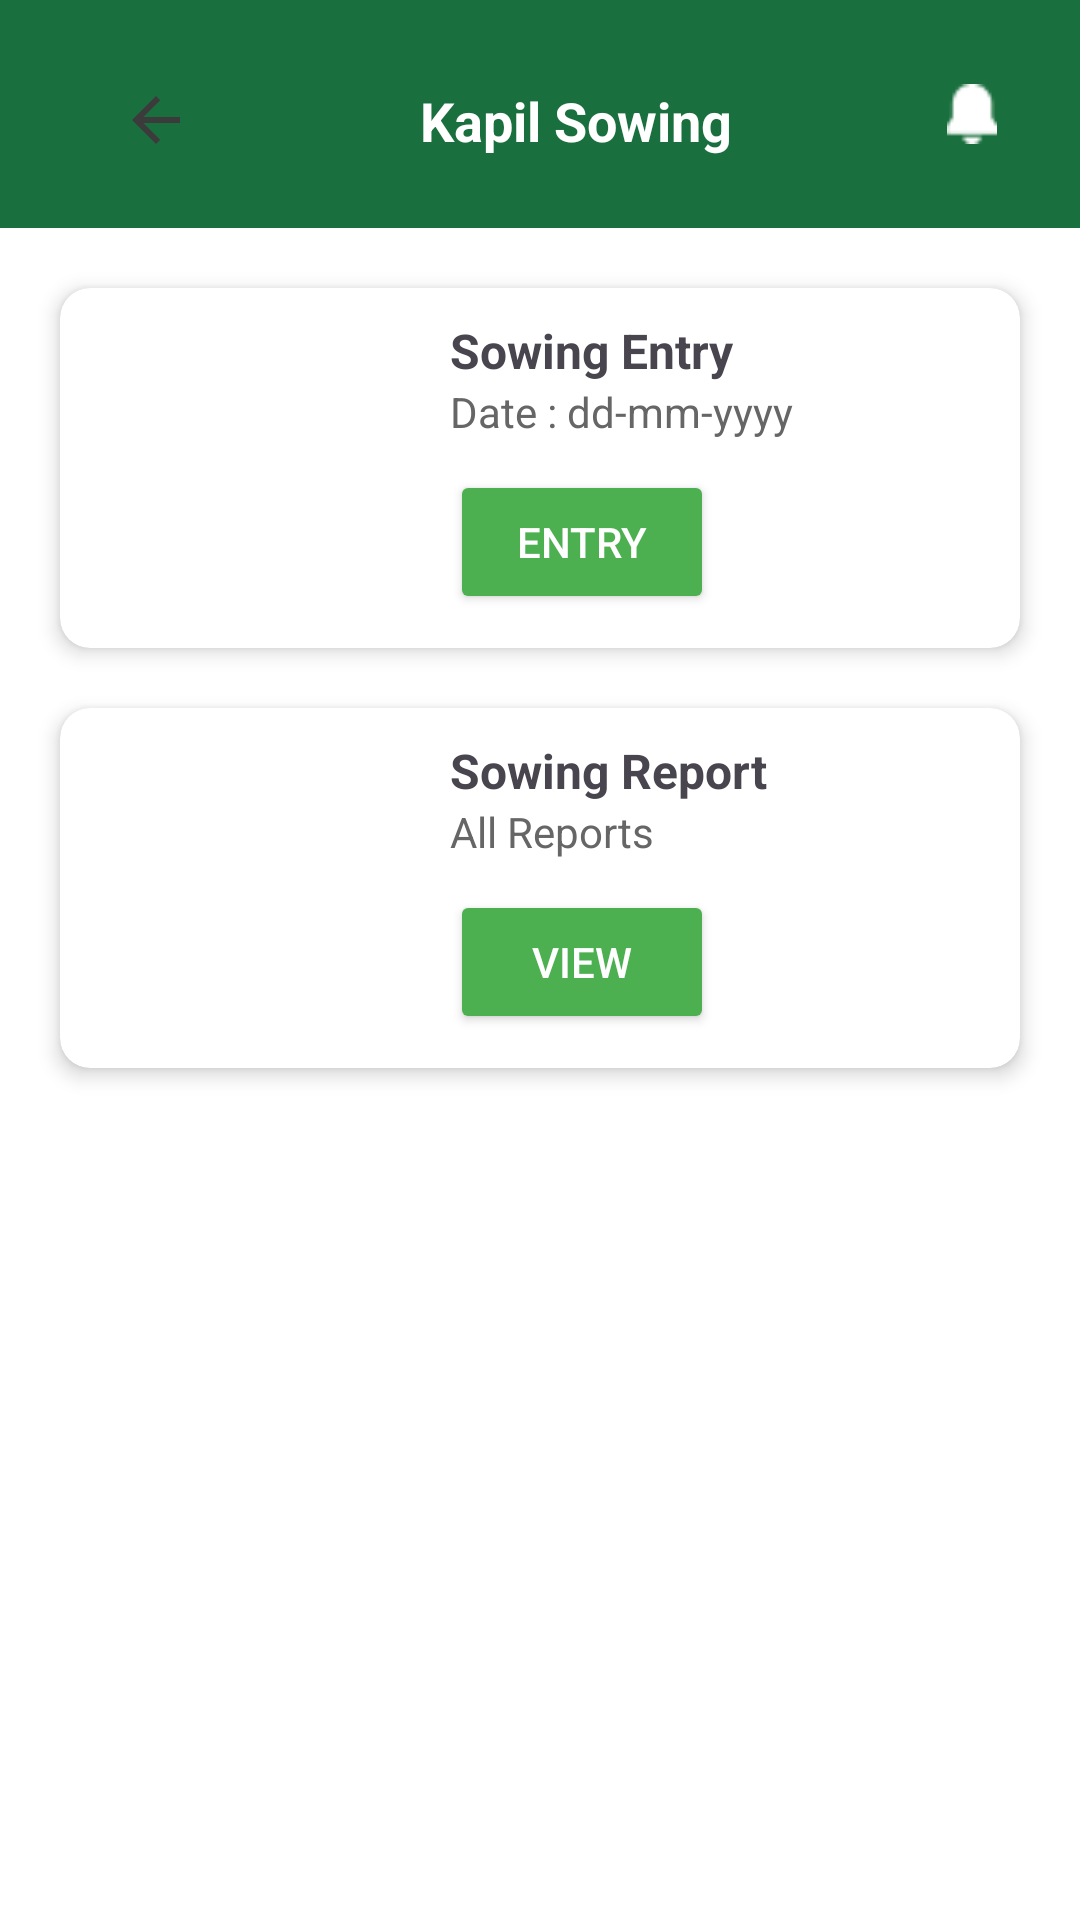

Icons on this 1080*1920 Android screen, each with the point to tap as point (x, y):
Back: point (156, 120)
Notifications: point (972, 114)
